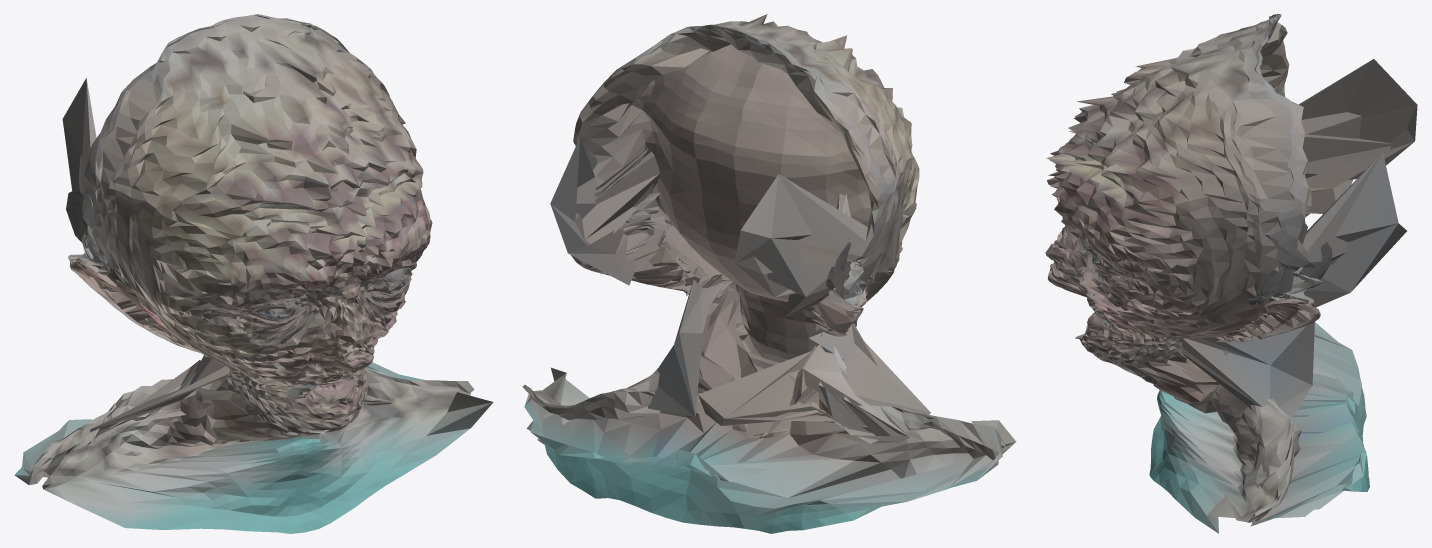
The model's file is chibi_textured_mesh.obj.
3 views of the same model, side by side, from view 1: azimuth 30°, elevation 25°; view 2: azimuth 150°, elevation 25°; view 3: azimuth 270°, elevation 25° (orthographic). The views are drawn at different scales.
Size of the model in its own units: 0.327 by 0.3176 by 0.245.
